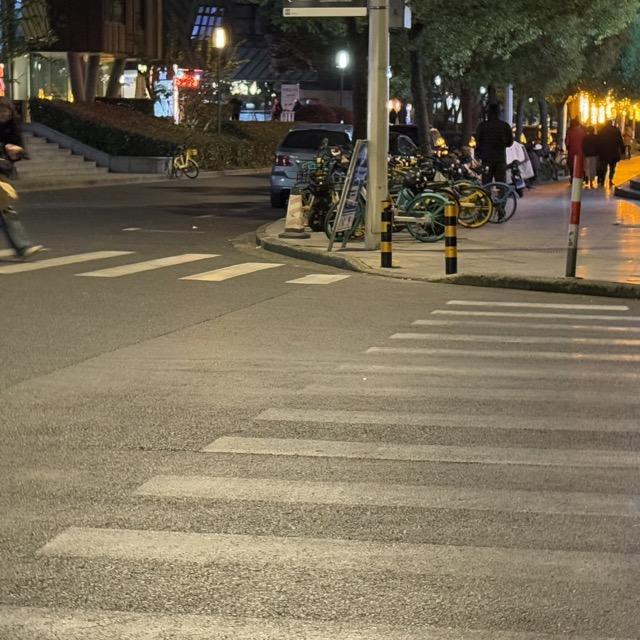curb: (256, 224, 369, 271), (445, 276, 639, 299), (16, 174, 171, 191), (198, 168, 271, 178)
